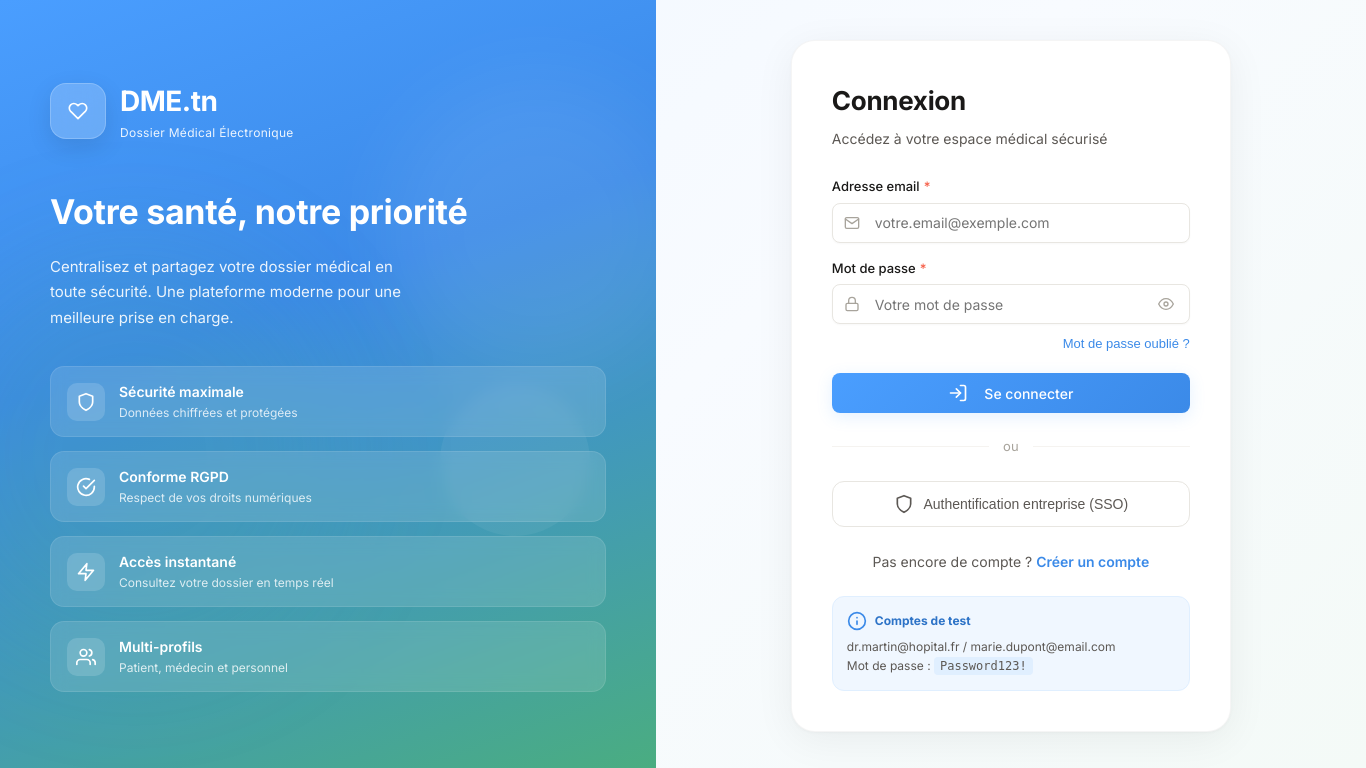
Test: DME - Authentication flows › redirects to dashboard after successful doctor login
The image size is (1366, 768).
In the field with placeholder "votre.email@exemple.com": (1011,223) x1=832 y1=203 x2=1190 y2=243, type "doctor@dme.fr"
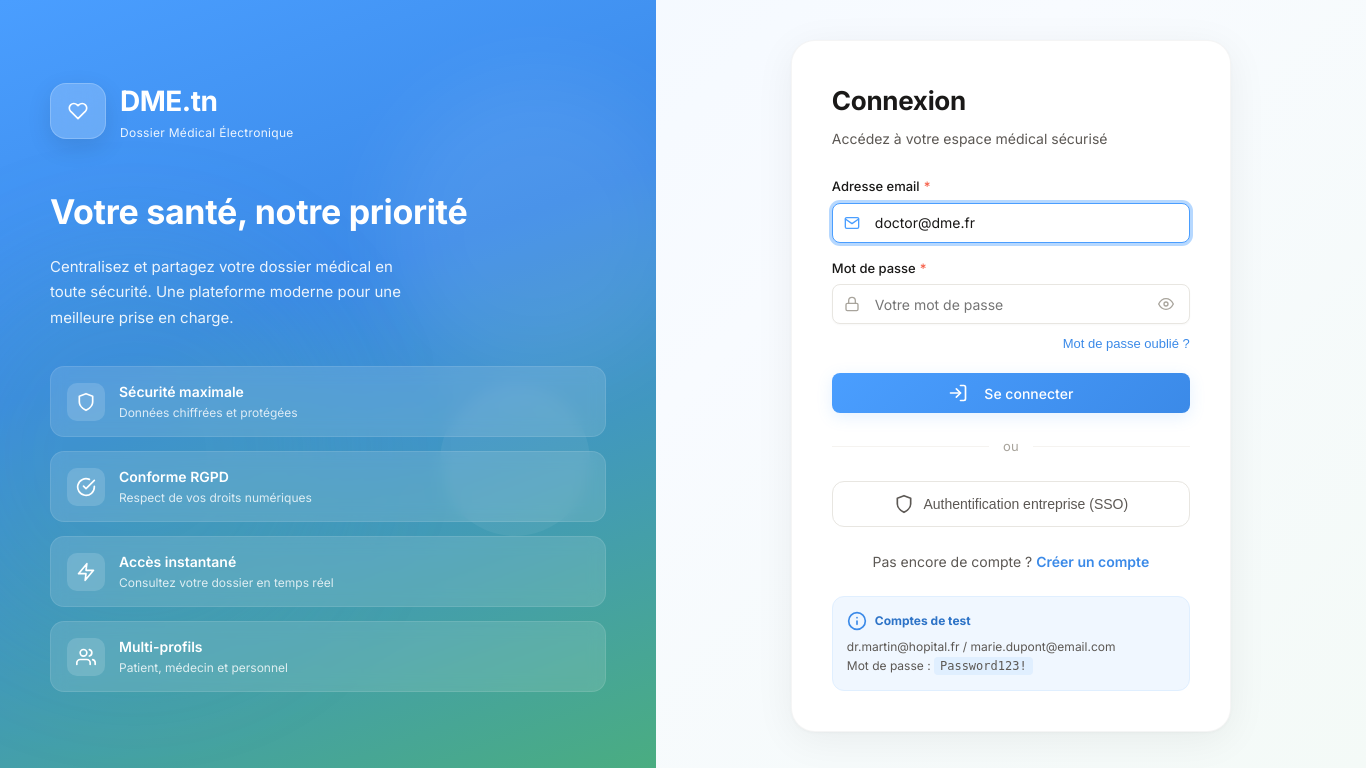
In the password field with placeholder "Votre mot de passe": (1011,304) x1=832 y1=284 x2=1190 y2=324, type "Password123!"
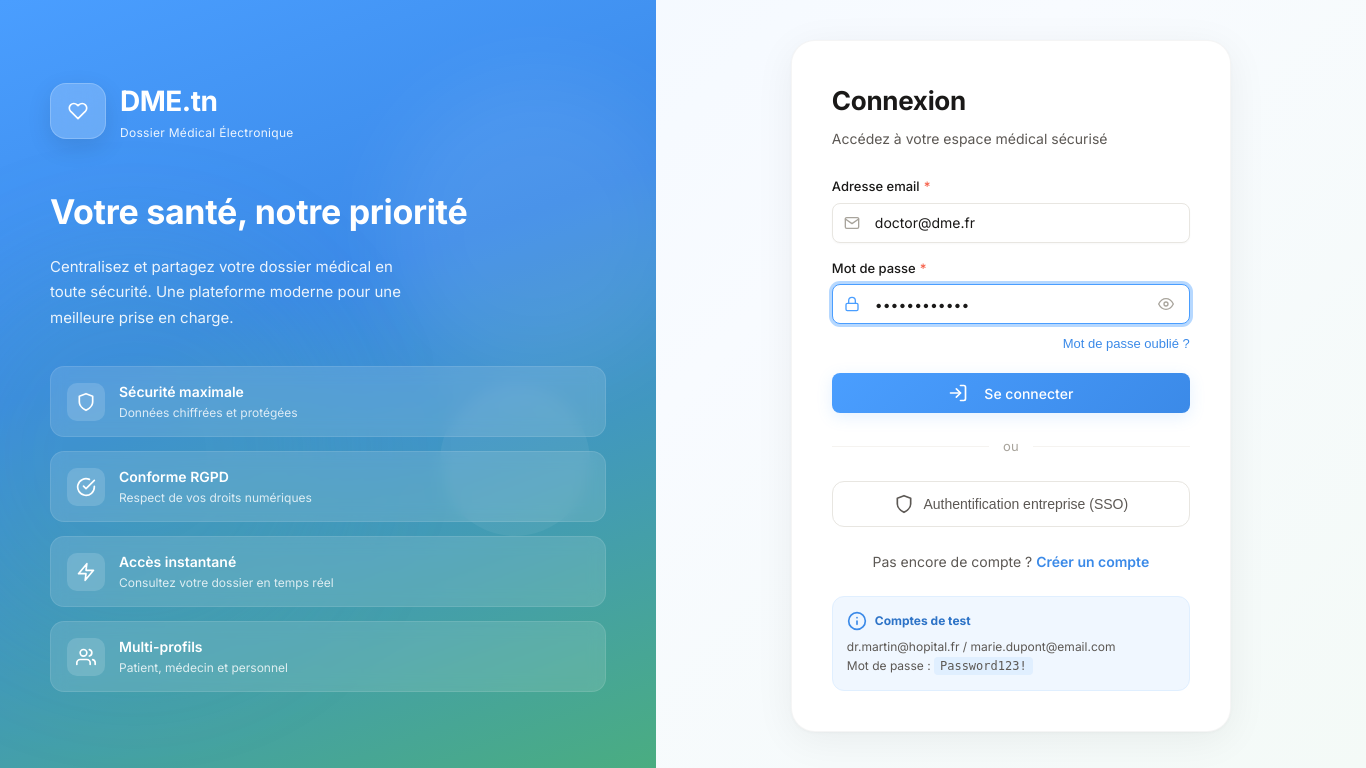
Click the submit button: (1011,393) x1=832 y1=373 x2=1190 y2=413
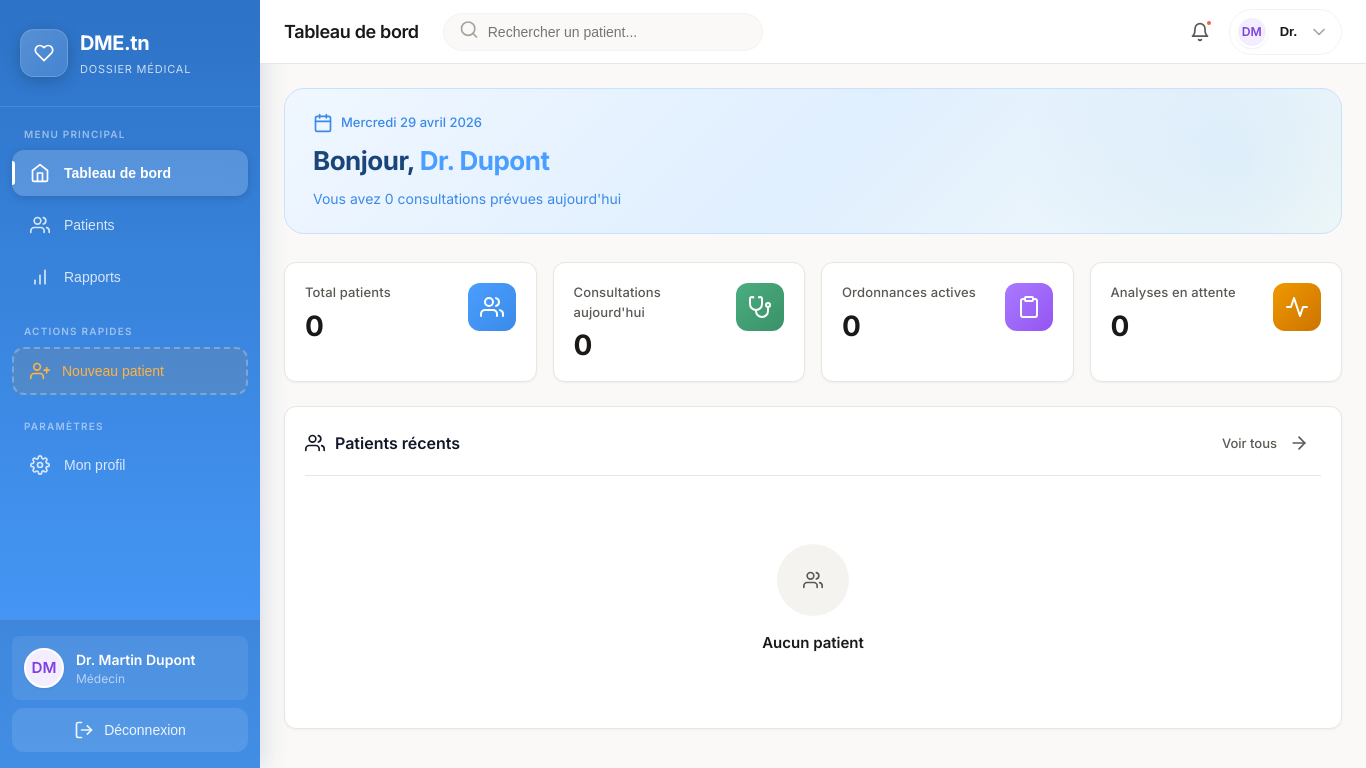
Now the button "Tableau de bord" is shown, box x1=12 y1=150 x2=248 y2=196
